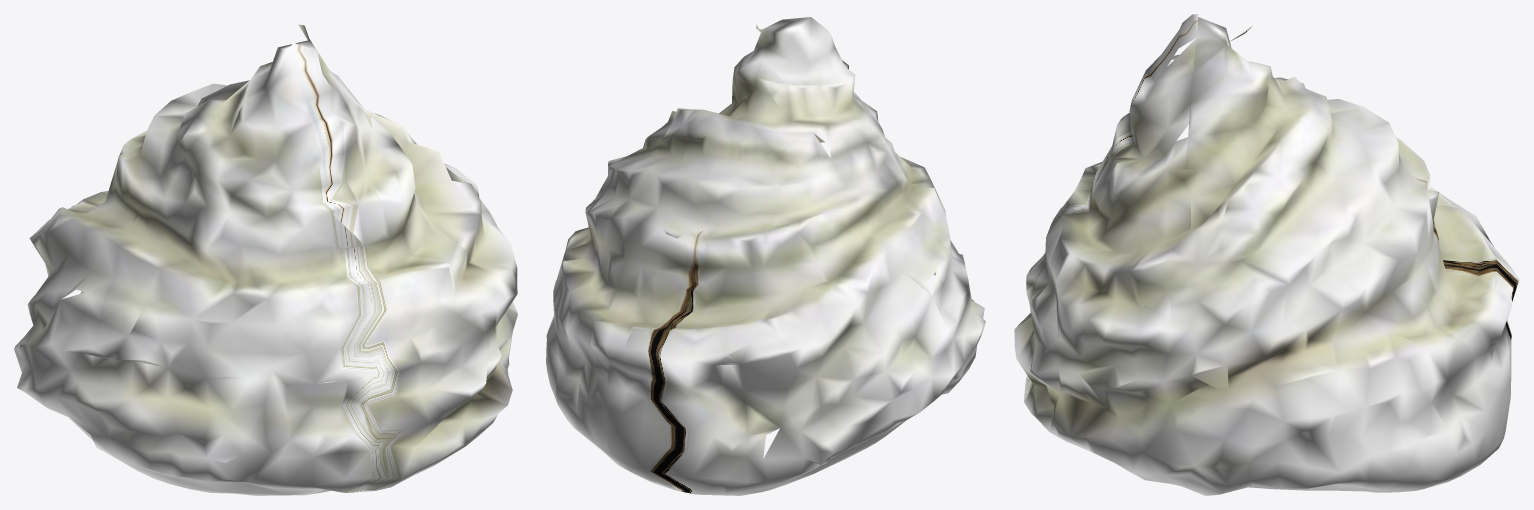
The model's file is cream-swirl.glb.
3 views of the same model, side by side, from view 1: azimuth 30°, elevation 25°; view 2: azimuth 150°, elevation 25°; view 3: azimuth 270°, elevation 25° (orthographic). The views are drawn at different scales.
Size of the model in its own units: 0.9815 by 0.9604 by 1.
Materials: 1 (1 with a texture image).
